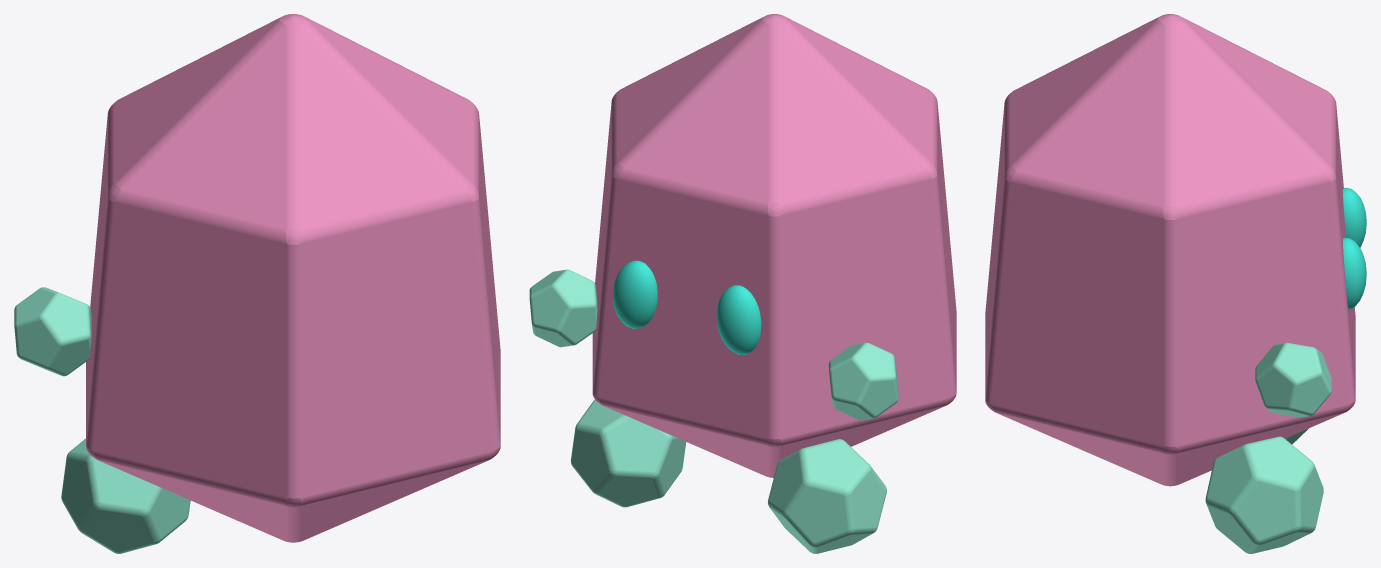
Rendered from mascot.glb.
3 renders of one model, left to right at view 1: azimuth 30°, elevation 25°; view 2: azimuth 150°, elevation 25°; view 3: azimuth 270°, elevation 25°, orthographic. The views are drawn at different scales.
Parts seen in each view (by area): view 1: Body.003, Feet Deca.003, Hand Deca.003; view 2: Body.003, Feet Deca.003, Hand Deca.003, Eyes.003; view 3: Body.003, Feet Deca.003, Hand Deca.003, Eyes.003.
Part boxes in pixels (bbox=[...]): Body.003: bbox=[86, 14, 500, 542]; Feet Deca.003: bbox=[61, 438, 190, 553]; Hand Deca.003: bbox=[14, 287, 91, 376]; Body.003: bbox=[592, 14, 956, 477]; Feet Deca.003: bbox=[570, 400, 886, 553]; Hand Deca.003: bbox=[529, 269, 898, 420]; Eyes.003: bbox=[613, 260, 761, 354]; Body.003: bbox=[985, 14, 1355, 486]; Feet Deca.003: bbox=[1205, 428, 1323, 553]; Hand Deca.003: bbox=[1255, 342, 1331, 417]; Eyes.003: bbox=[1342, 187, 1366, 309].
Bounding box in the file's own units: 0.5738 × 0.7114 × 0.5098.
